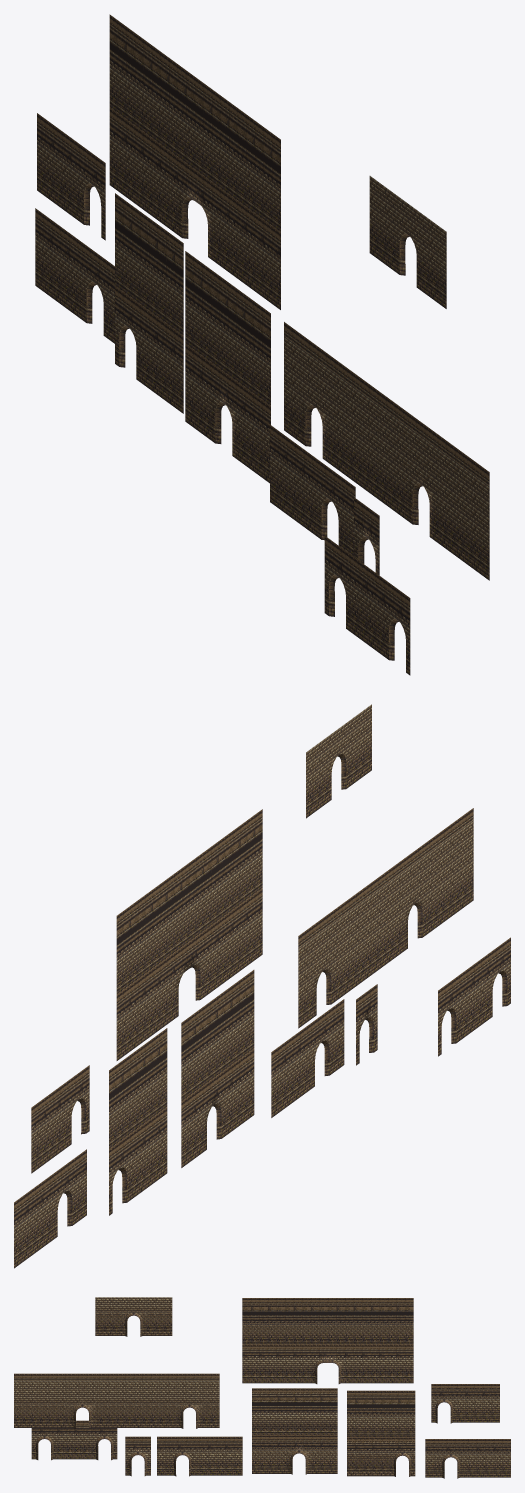
Rendered from ObjMD_Lab_Wall_Study_Room_07.FBX.
3 renders of one model, top to bottom at view 1: azimuth 30°, elevation 25°; view 2: azimuth 150°, elevation 25°; view 3: azimuth 270°, elevation 25°, orthographic. The views are drawn at different scales.
Visible parts, largest first — view 1: ObjMD_Lab_Wall_Boss_Room, ObjMD_Lab_Wall_Study_Room_01, ObjMD_Lab_Wall_Study_Room_07, ObjMD_Lab_Wall_Study_Room_05, ObjMD_Lab_Wall_Study_Room_03, ObjMD_Lab_Wall_Corridor, ObjMD_Lab_Wall_Study_Room_04, ObjMD_Lab_Wall_Study_Room_06, ObjMD_Lab_Wall_Study_Room_02, ObjMD_Lab_Wall_Alone; view 2: ObjMD_Lab_Wall_Boss_Room, ObjMD_Lab_Wall_Study_Room_01, ObjMD_Lab_Wall_Study_Room_07, ObjMD_Lab_Wall_Study_Room_05, ObjMD_Lab_Wall_Study_Room_03, ObjMD_Lab_Wall_Study_Room_04, ObjMD_Lab_Wall_Corridor, ObjMD_Lab_Wall_Study_Room_06, ObjMD_Lab_Wall_Study_Room_02, ObjMD_Lab_Wall_Alone; view 3: ObjMD_Lab_Wall_Boss_Room, ObjMD_Lab_Wall_Study_Room_01, ObjMD_Lab_Wall_Study_Room_07, ObjMD_Lab_Wall_Study_Room_05, ObjMD_Lab_Wall_Study_Room_03, ObjMD_Lab_Wall_Study_Room_04, ObjMD_Lab_Wall_Study_Room_06, ObjMD_Lab_Wall_Study_Room_02, ObjMD_Lab_Wall_Corridor, ObjMD_Lab_Wall_Alone.
Boxes of the visible parts, bbox=[...] form: ObjMD_Lab_Wall_Boss_Room: bbox=[109, 14, 280, 309]; ObjMD_Lab_Wall_Study_Room_01: bbox=[284, 322, 489, 580]; ObjMD_Lab_Wall_Study_Room_07: bbox=[185, 251, 270, 483]; ObjMD_Lab_Wall_Study_Room_05: bbox=[115, 193, 183, 413]; ObjMD_Lab_Wall_Study_Room_03: bbox=[270, 425, 355, 556]; ObjMD_Lab_Wall_Corridor: bbox=[324, 536, 410, 675]; ObjMD_Lab_Wall_Study_Room_04: bbox=[35, 208, 114, 343]; ObjMD_Lab_Wall_Study_Room_06: bbox=[369, 176, 446, 308]; ObjMD_Lab_Wall_Study_Room_02: bbox=[37, 113, 105, 240]; ObjMD_Lab_Wall_Alone: bbox=[354, 497, 379, 575]; ObjMD_Lab_Wall_Boss_Room: bbox=[116, 809, 262, 1060]; ObjMD_Lab_Wall_Study_Room_01: bbox=[298, 808, 473, 1028]; ObjMD_Lab_Wall_Study_Room_07: bbox=[181, 970, 254, 1167]; ObjMD_Lab_Wall_Study_Room_05: bbox=[109, 1028, 167, 1215]; ObjMD_Lab_Wall_Study_Room_03: bbox=[271, 999, 344, 1117]; ObjMD_Lab_Wall_Study_Room_04: bbox=[14, 1149, 86, 1268]; ObjMD_Lab_Wall_Corridor: bbox=[438, 937, 510, 1056]; ObjMD_Lab_Wall_Study_Room_06: bbox=[306, 704, 371, 818]; ObjMD_Lab_Wall_Study_Room_02: bbox=[31, 1065, 89, 1173]; ObjMD_Lab_Wall_Alone: bbox=[356, 984, 377, 1065]; ObjMD_Lab_Wall_Boss_Room: bbox=[242, 1298, 413, 1383]; ObjMD_Lab_Wall_Study_Room_01: bbox=[14, 1373, 219, 1428]; ObjMD_Lab_Wall_Study_Room_07: bbox=[252, 1388, 337, 1474]; ObjMD_Lab_Wall_Study_Room_05: bbox=[347, 1390, 415, 1476]; ObjMD_Lab_Wall_Study_Room_03: bbox=[157, 1436, 242, 1476]; ObjMD_Lab_Wall_Study_Room_04: bbox=[425, 1439, 510, 1478]; ObjMD_Lab_Wall_Study_Room_06: bbox=[95, 1297, 172, 1336]; ObjMD_Lab_Wall_Study_Room_02: bbox=[431, 1384, 499, 1423]; ObjMD_Lab_Wall_Corridor: bbox=[31, 1420, 117, 1460]; ObjMD_Lab_Wall_Alone: bbox=[125, 1436, 150, 1476].
Bounding box in the file's own units: 726 × 2412 × 5801.
